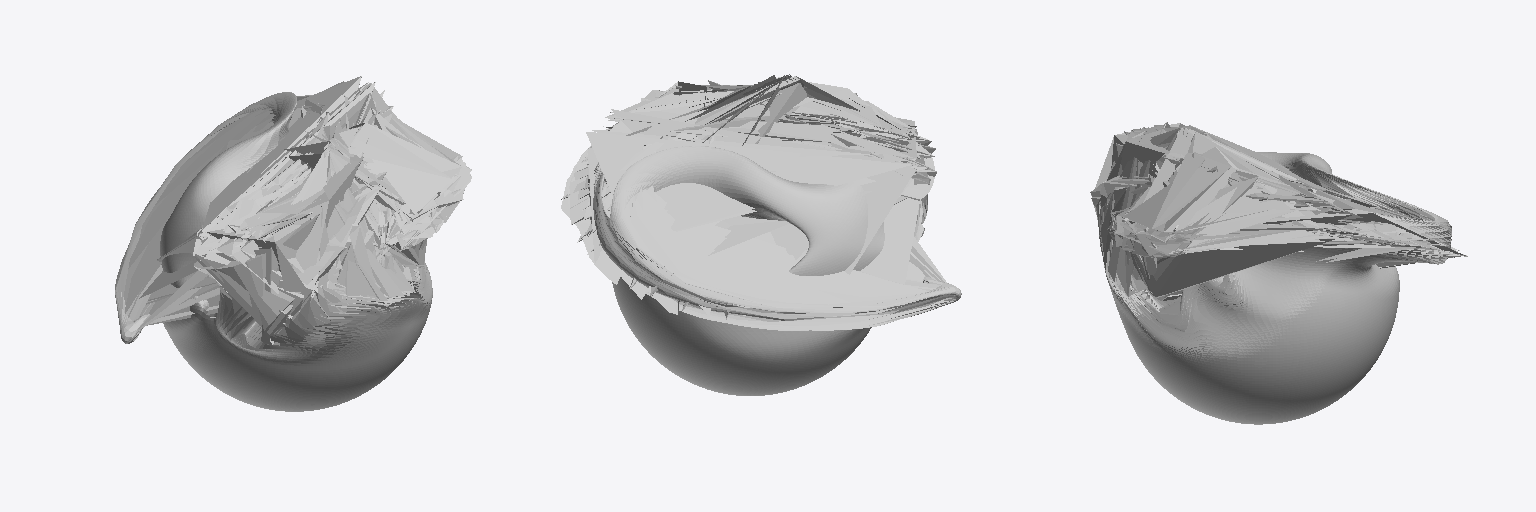
3 views of the same model, side by side, from view 1: azimuth 30°, elevation 25°; view 2: azimuth 150°, elevation 25°; view 3: azimuth 270°, elevation 25° (orthographic).
Visible parts, largest first — view 1: Quad_Sphere; view 2: Quad_Sphere; view 3: Quad_Sphere.
Boxes of the visible parts, x1,y1,x2,y2 form: Quad_Sphere: [115, 76, 471, 411]; Quad_Sphere: [561, 74, 961, 395]; Quad_Sphere: [1090, 122, 1467, 424].
Size of the model in its own units: 3.44 by 2.85 by 3.46.